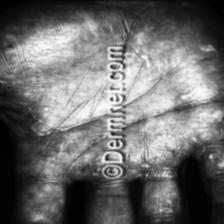Non-Cancerous Skin Condition: (129, 0, 224, 221), (0, 47, 102, 189)
